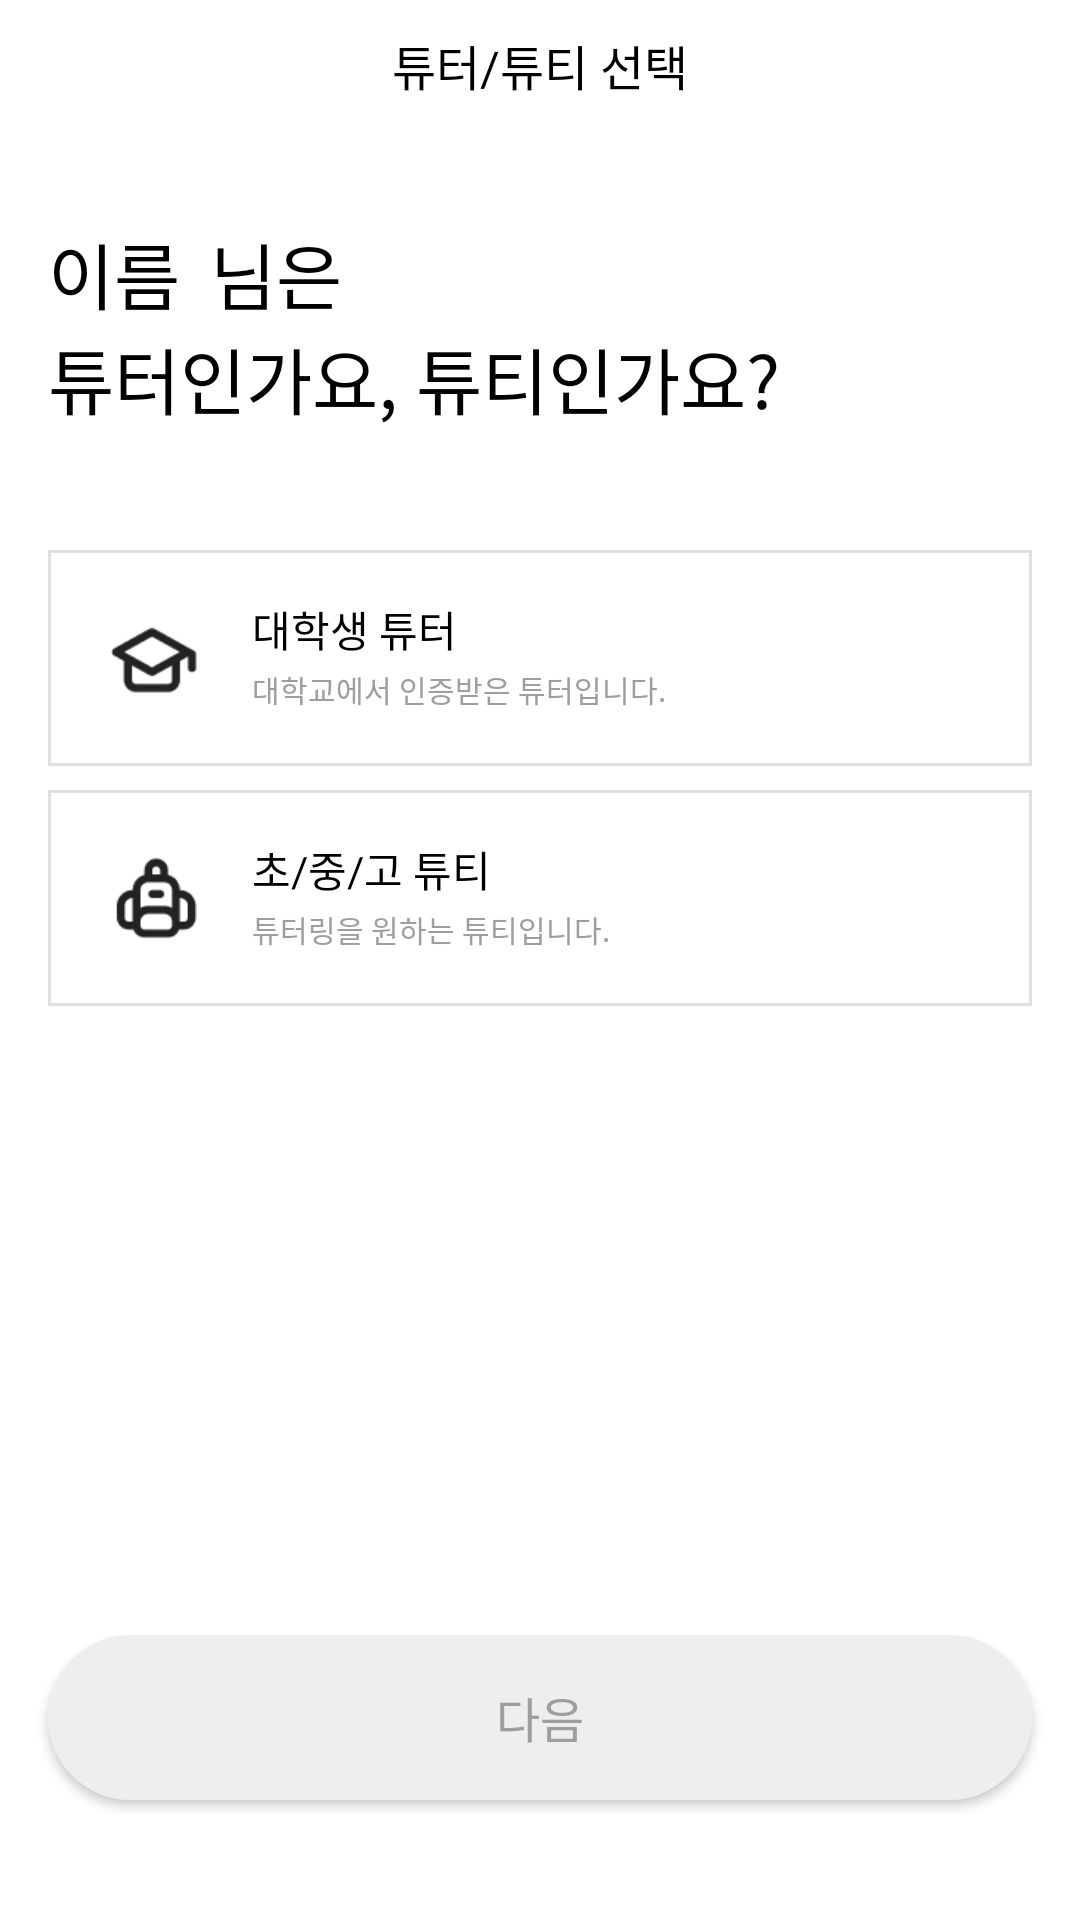

Locate icon controls on the screen. Image size 1080px x 1920px, boxes as detection(x1, y1, x2, y2).
mortarboard: detection(111, 627, 197, 693)
schoolbag: detection(116, 858, 197, 938)
